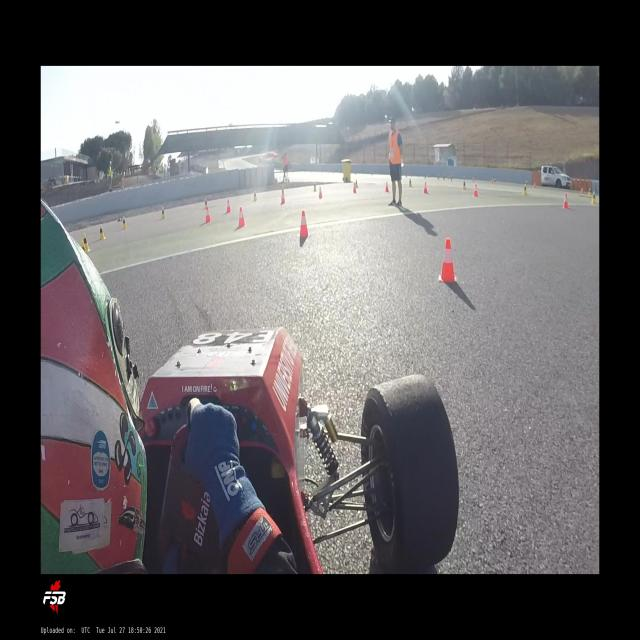orange_cone: (438, 238, 457, 282), (296, 209, 311, 238), (237, 206, 246, 228), (204, 204, 212, 224), (562, 192, 568, 209), (280, 189, 286, 205), (226, 199, 232, 213), (473, 183, 478, 197), (423, 182, 428, 194), (385, 180, 389, 192), (318, 186, 322, 198), (353, 182, 357, 193), (580, 187, 584, 194), (533, 182, 536, 188), (492, 178, 494, 183)
yellow_cone: (83, 233, 92, 253), (99, 224, 106, 240), (591, 190, 597, 205), (122, 216, 128, 230), (80, 240, 86, 253), (252, 190, 258, 202), (161, 207, 166, 220), (523, 183, 527, 196), (462, 180, 467, 190), (203, 198, 207, 209), (588, 187, 592, 197), (409, 177, 412, 187), (355, 178, 358, 188), (525, 180, 528, 187), (314, 182, 316, 192), (494, 178, 496, 184)
